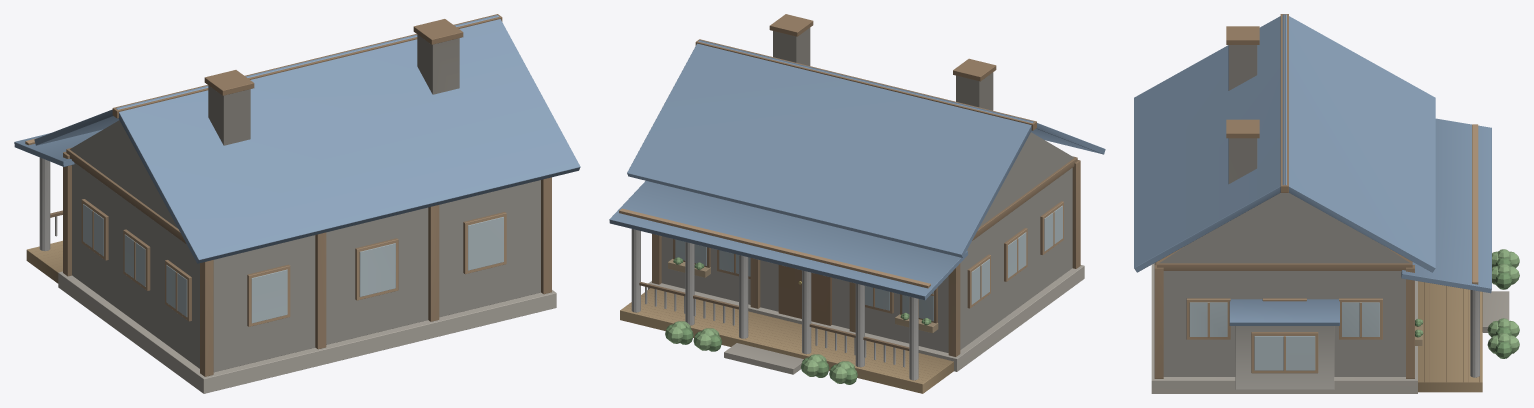
The model's file is home_manor__blue.glb.
3 renders of one model, left to right at view 1: azimuth 30°, elevation 25°; view 2: azimuth 150°, elevation 25°; view 3: azimuth 270°, elevation 25°, orthographic. The views are drawn at different scales.
Bounding box in the file's own units: 11.05 × 6.87 × 10.14.
